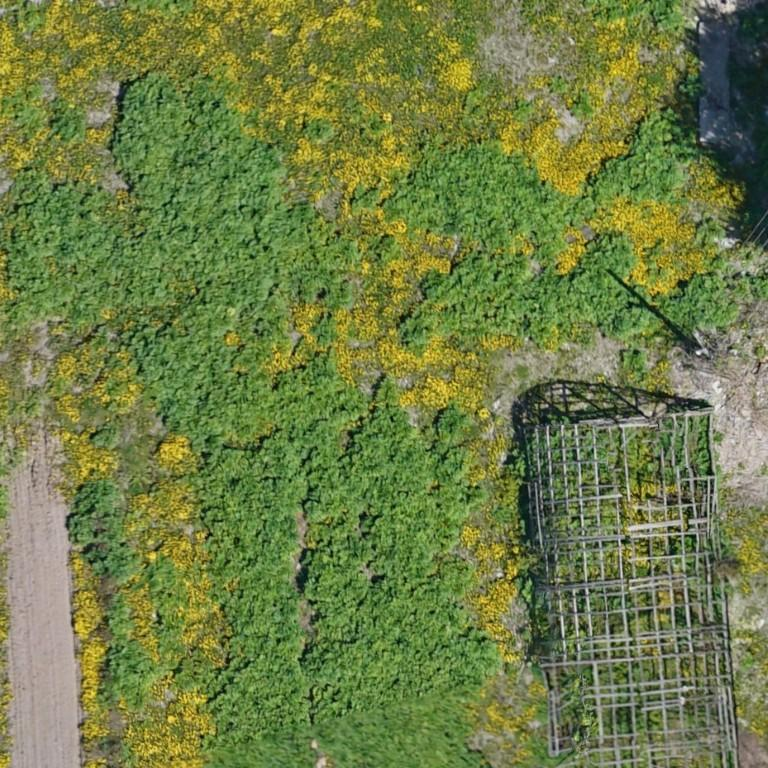hogweed: (3, 71, 366, 767), (383, 111, 737, 351), (301, 373, 498, 767), (69, 481, 138, 579), (107, 596, 158, 707), (53, 111, 84, 139), (696, 222, 725, 247), (352, 186, 379, 212), (304, 118, 333, 142), (623, 352, 644, 377), (95, 428, 119, 446), (756, 278, 767, 298)
